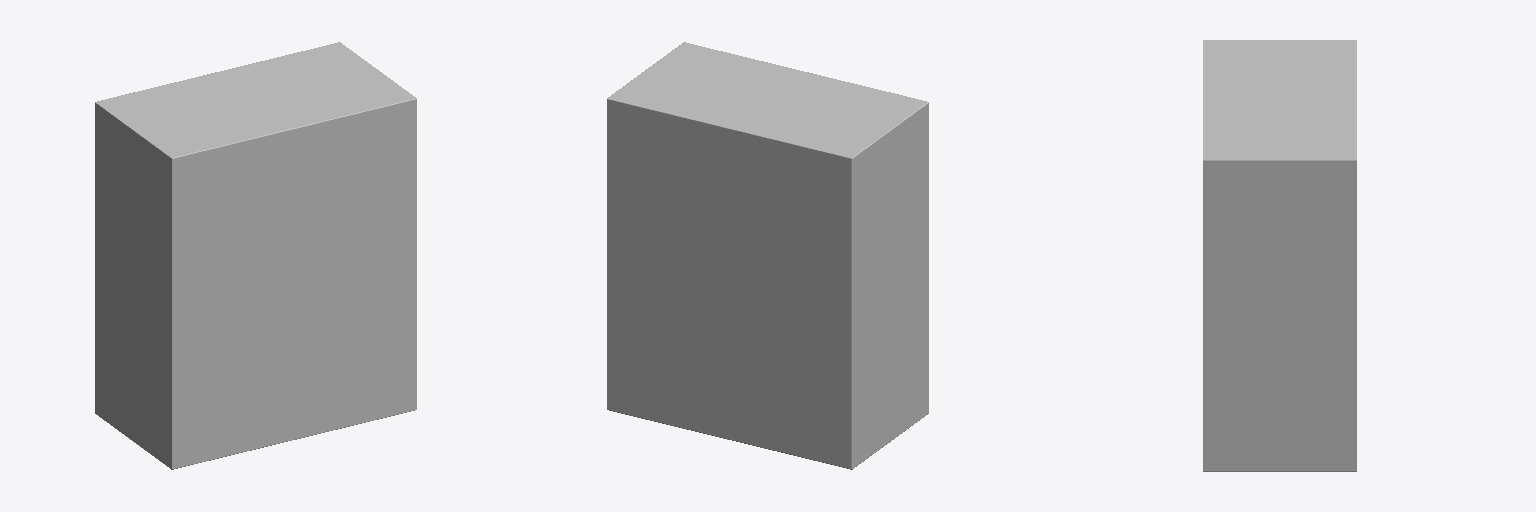
File: ups165.obj
3 views of the same model, side by side, from view 1: azimuth 30°, elevation 25°; view 2: azimuth 150°, elevation 25°; view 3: azimuth 270°, elevation 25° (orthographic).
Visible parts, largest first — view 1: ChamferBox46; view 2: ChamferBox46; view 3: ChamferBox46.
Part boxes in pixels (left/top/right/bottom): ChamferBox46: left=95, top=42, right=416, bottom=469; ChamferBox46: left=607, top=42, right=928, bottom=469; ChamferBox46: left=1203, top=40, right=1356, bottom=471.
Size of the model in its own units: 165 by 200 by 90.